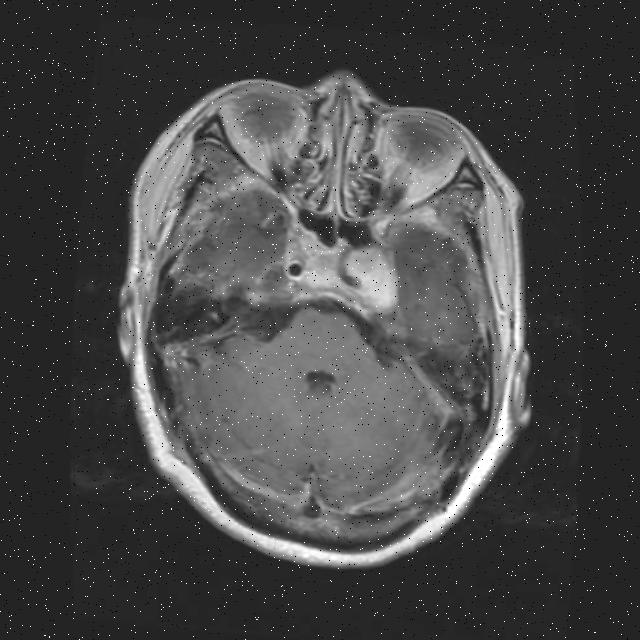Meningioma: (341, 243, 400, 314)
